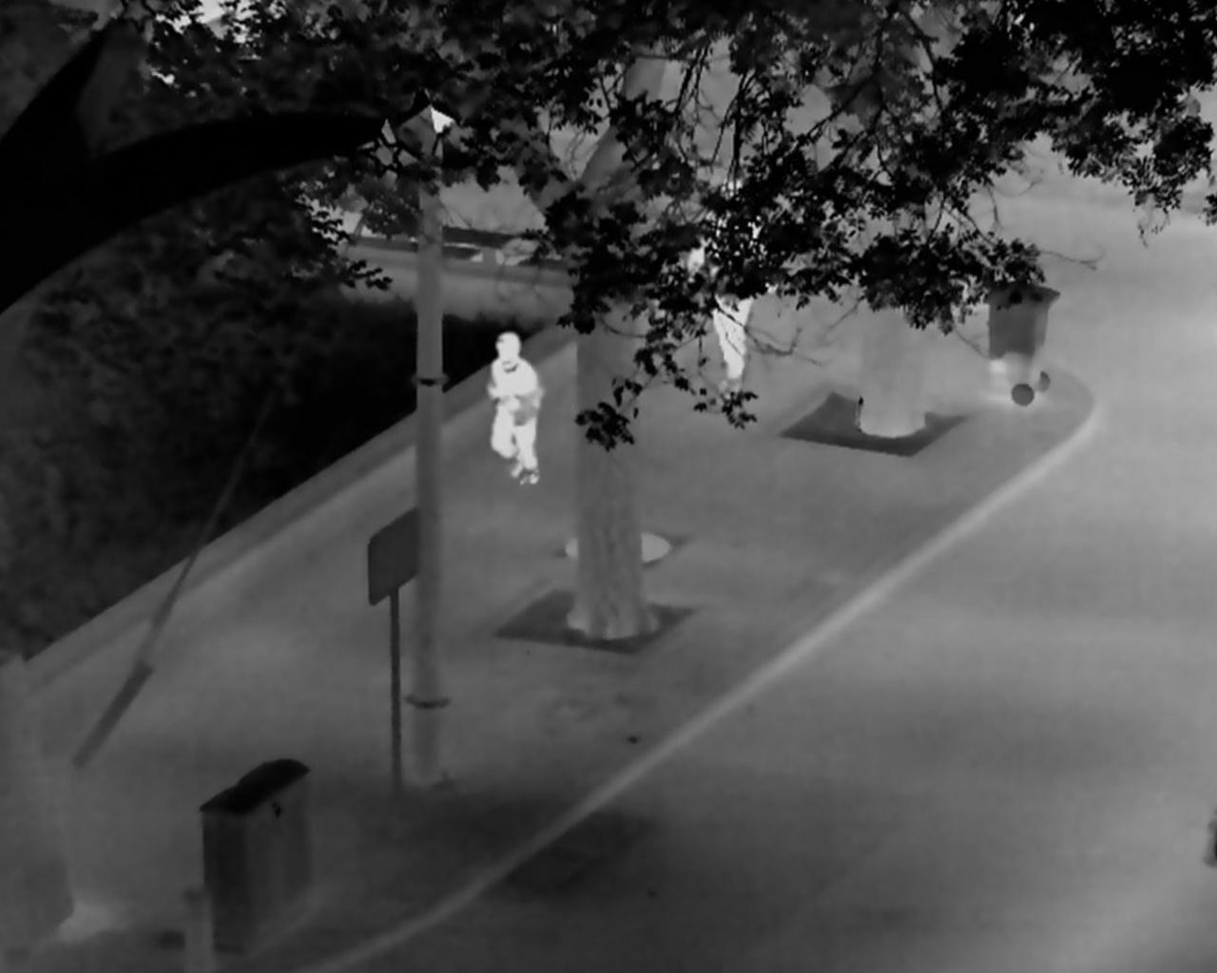person: (686, 176, 778, 401), (483, 330, 544, 486)
